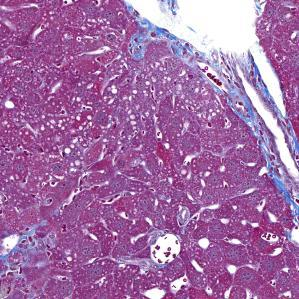fibrosis: (180, 54, 259, 133)
